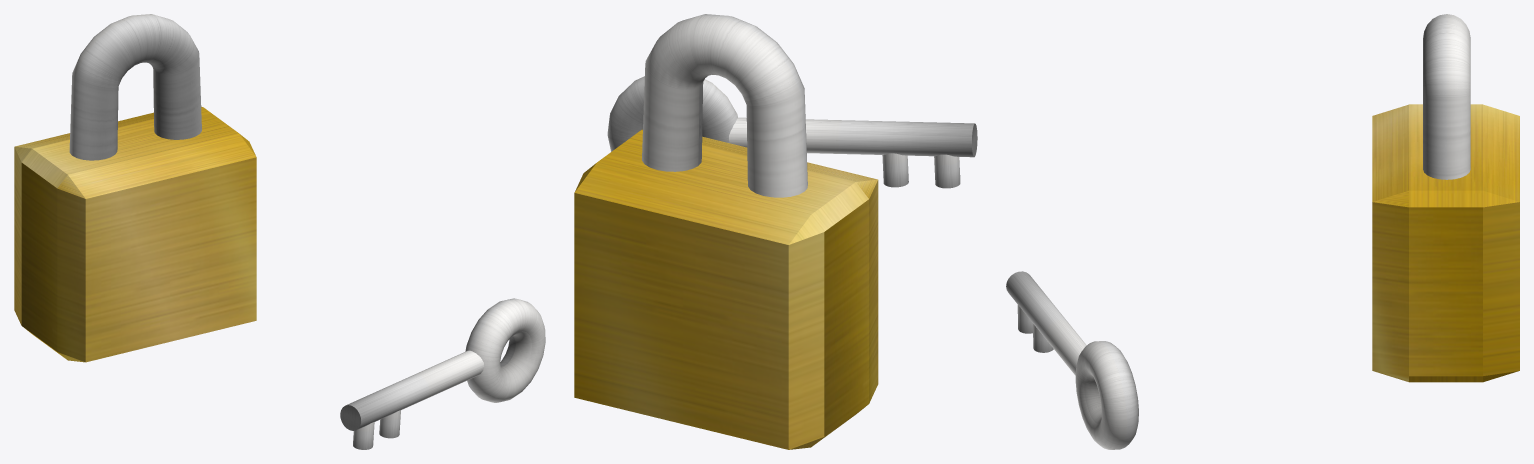
The model's file is LockandKey.fbx.
3 views of the same model, side by side, from view 1: azimuth 30°, elevation 25°; view 2: azimuth 150°, elevation 25°; view 3: azimuth 270°, elevation 25° (orthographic). The views are drawn at different scales.
Parts seen in each view (by area): view 1: pCube2, pCylinder8; view 2: pCube2, pCylinder8; view 3: pCube2, pCylinder8.
Part boxes in pixels (x1,y1,x2,y2): pCube2: [14, 14, 256, 362]; pCylinder8: [340, 298, 545, 449]; pCube2: [574, 14, 878, 449]; pCylinder8: [607, 76, 977, 188]; pCube2: [1372, 14, 1519, 382]; pCylinder8: [1006, 271, 1138, 449].
Bounding box in the file's own units: 8.15 × 7.02 × 10.14.
